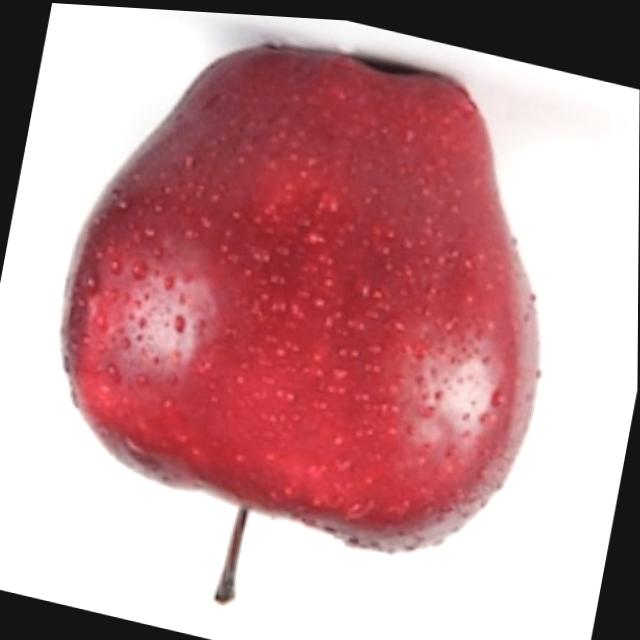Apple: (14, 1, 591, 640)
